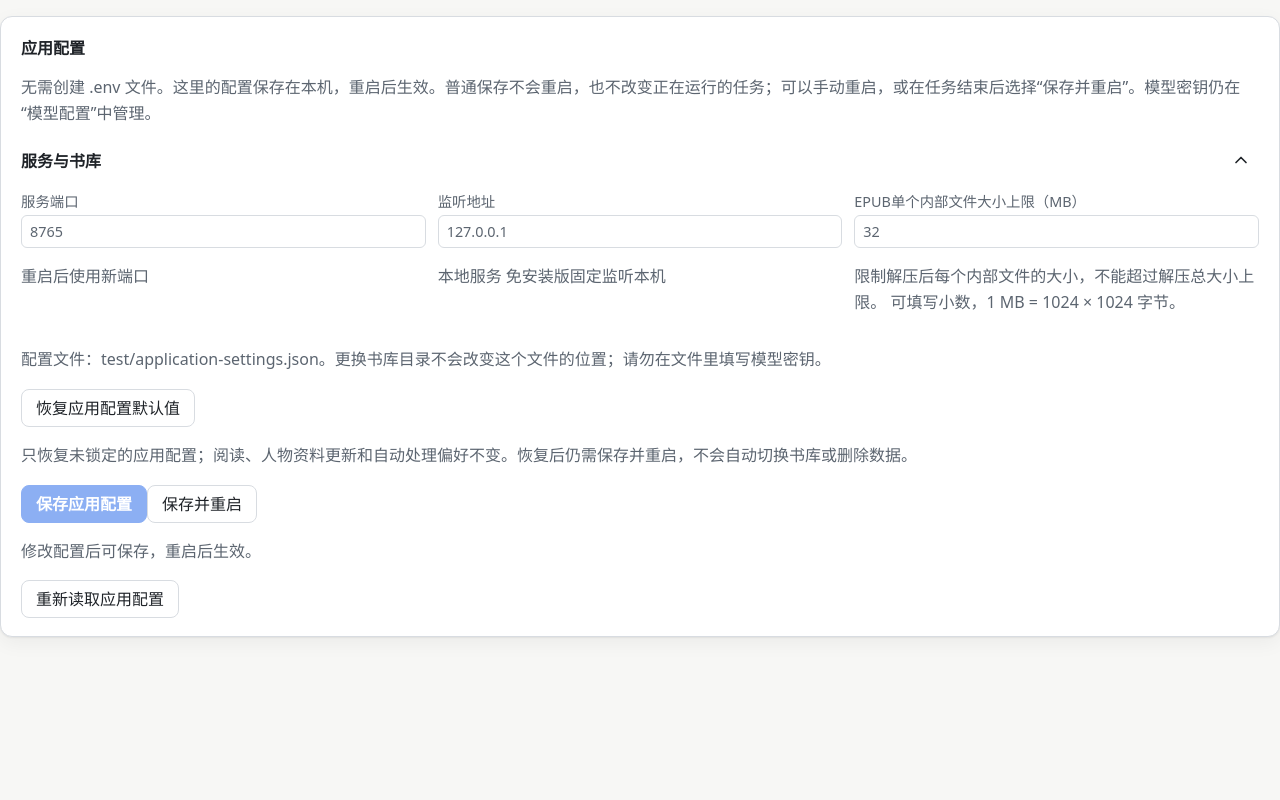
max_epub_entry_bytes 使用MB展示、范围和小数输入，保存仍使用整数字节
Replace the text in the number field labelled "EPUB单个内部文件大小上限（MB）" with "100.5" at x=1057, y=232, box [854,215,1259,248]
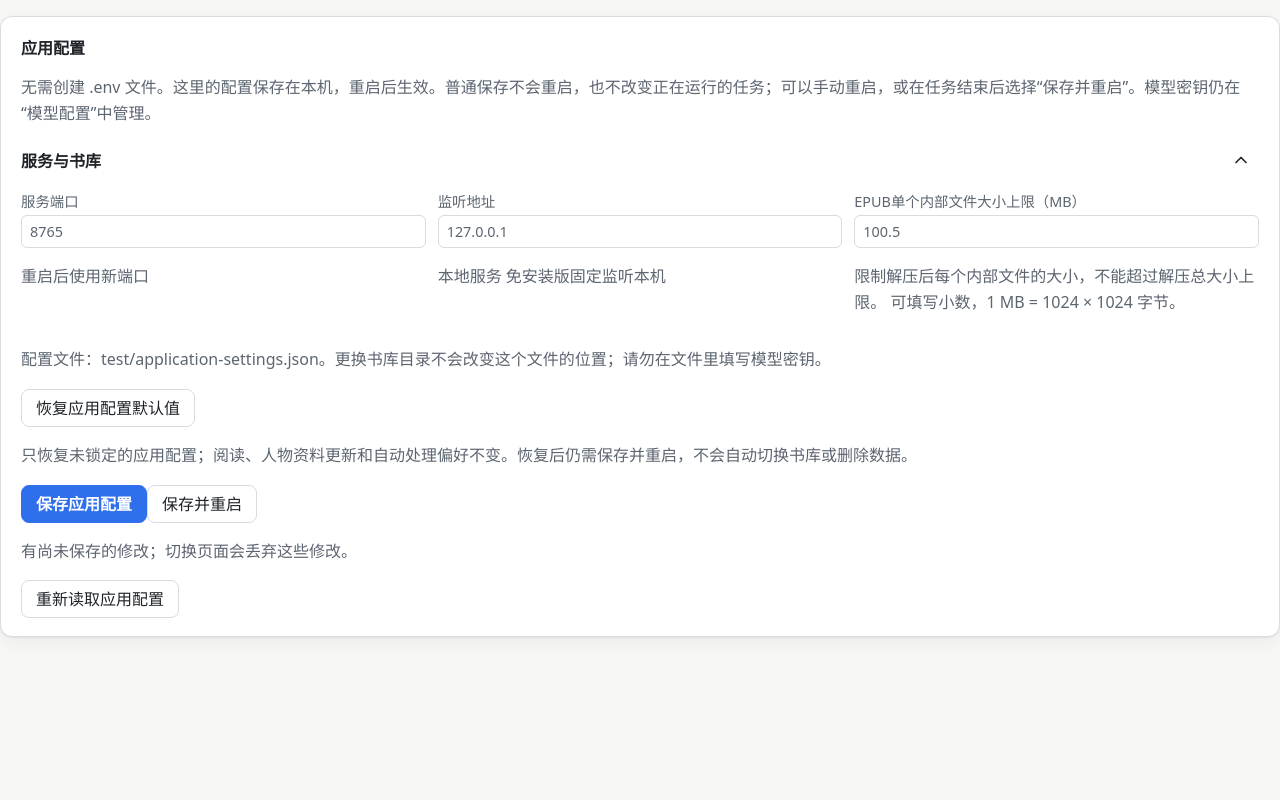
Click the button "保存应用配置" at x=84, y=504, box [21,485,147,523]
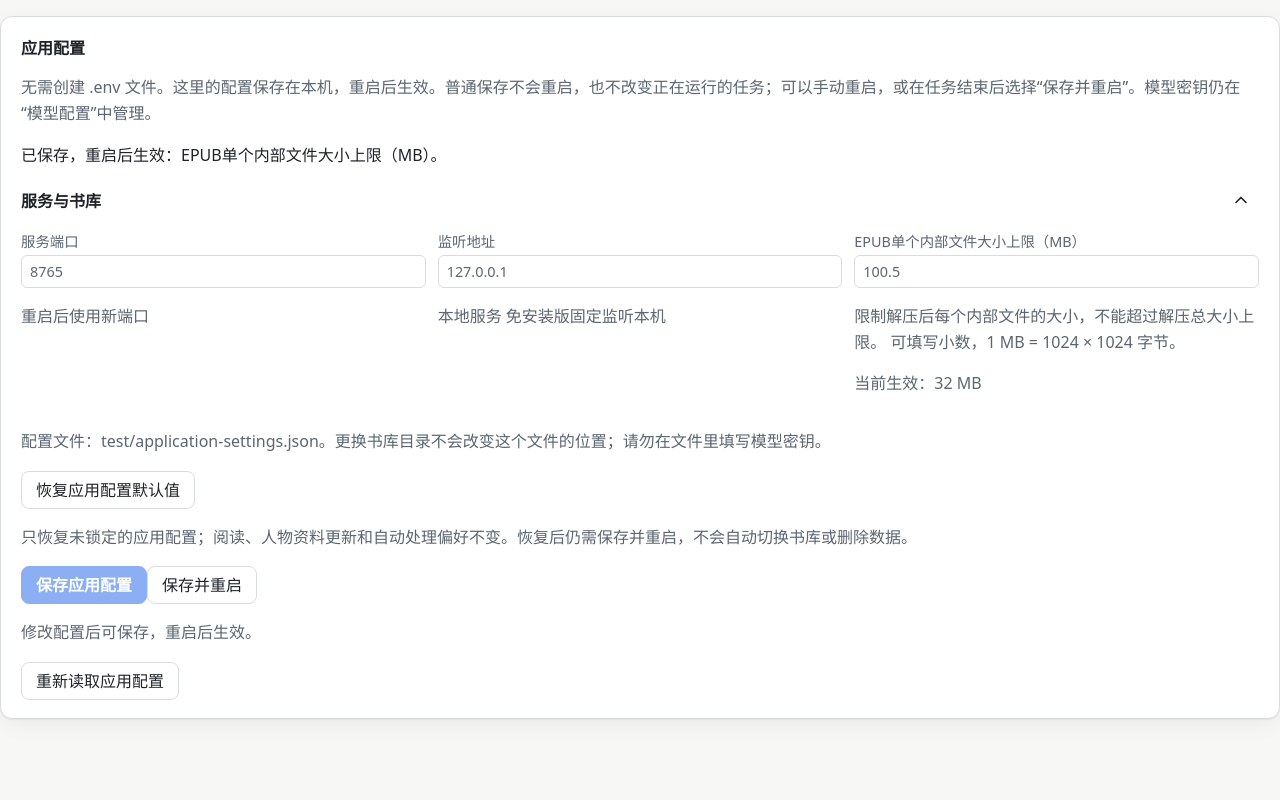
expect the text "已保存，重启后生效：EPUB单个内部文件大小上限（MB）。" is shown: met, box [21,144,447,166]
